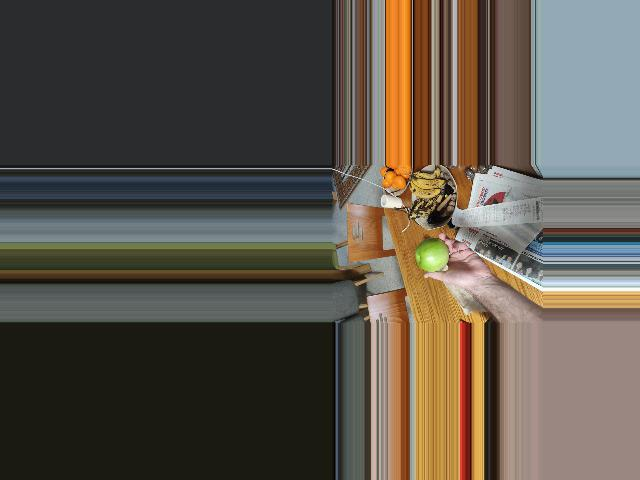apple: (414, 237, 451, 271)
